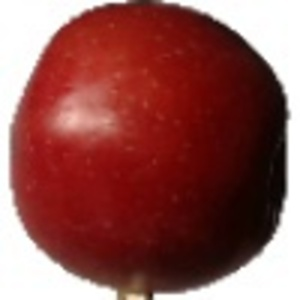maçã braeburn: (7, 1, 287, 296)
